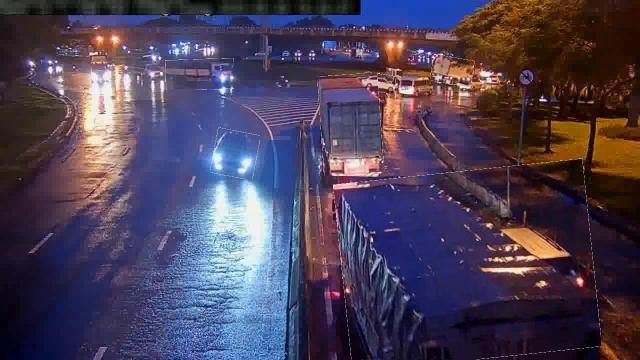Car: (212, 130, 260, 178), (364, 73, 396, 93)
Truck: (338, 164, 598, 360), (320, 74, 382, 176), (166, 58, 234, 90), (431, 56, 474, 86)
